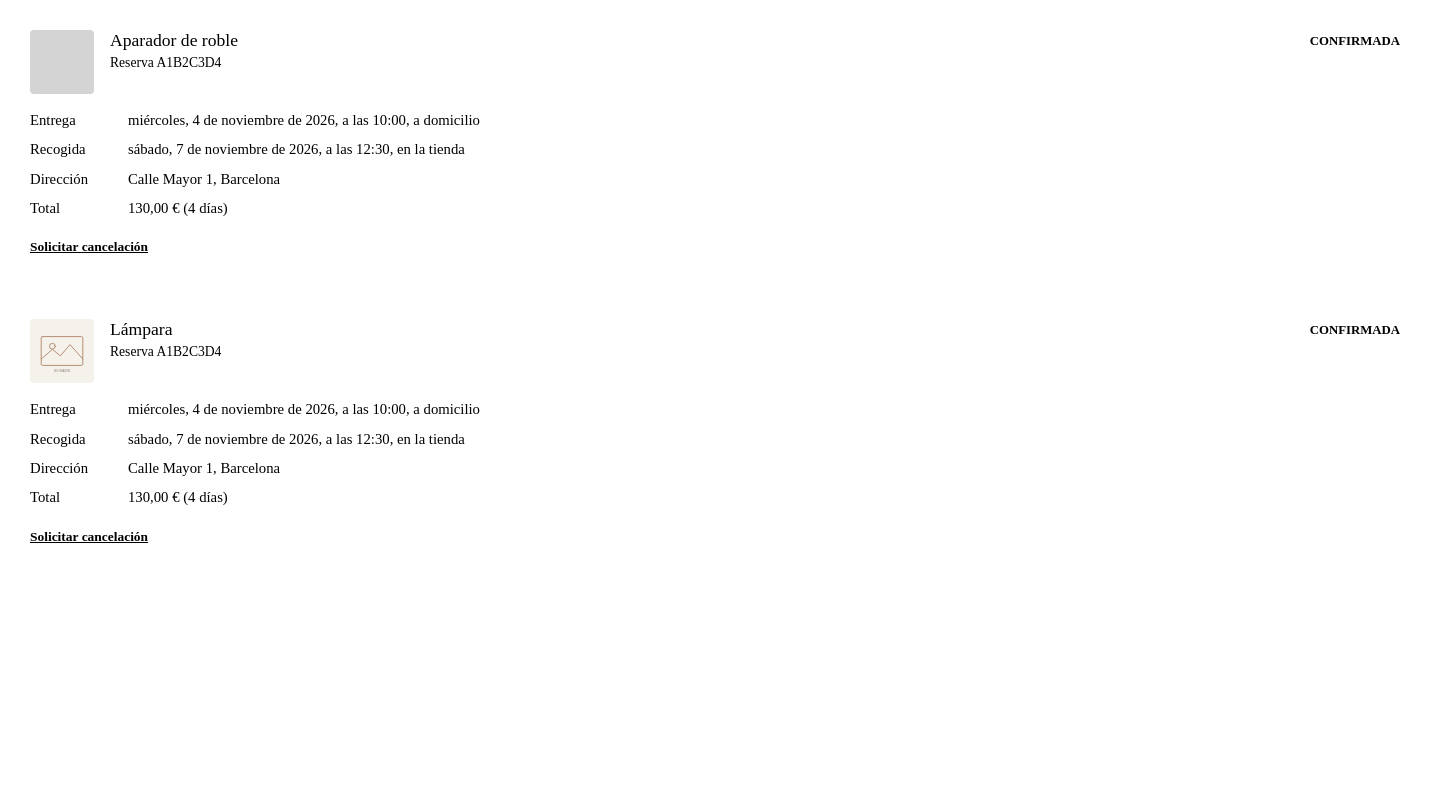
Test: MisReservas — solicitar la cancelación › pide un motivo opcional, lo envía y enseña la respuesta del servidor
Click the button "Solicitar cancelación" below "Aparador de roble". click: click(89, 247)
box: [30,239,148,255]
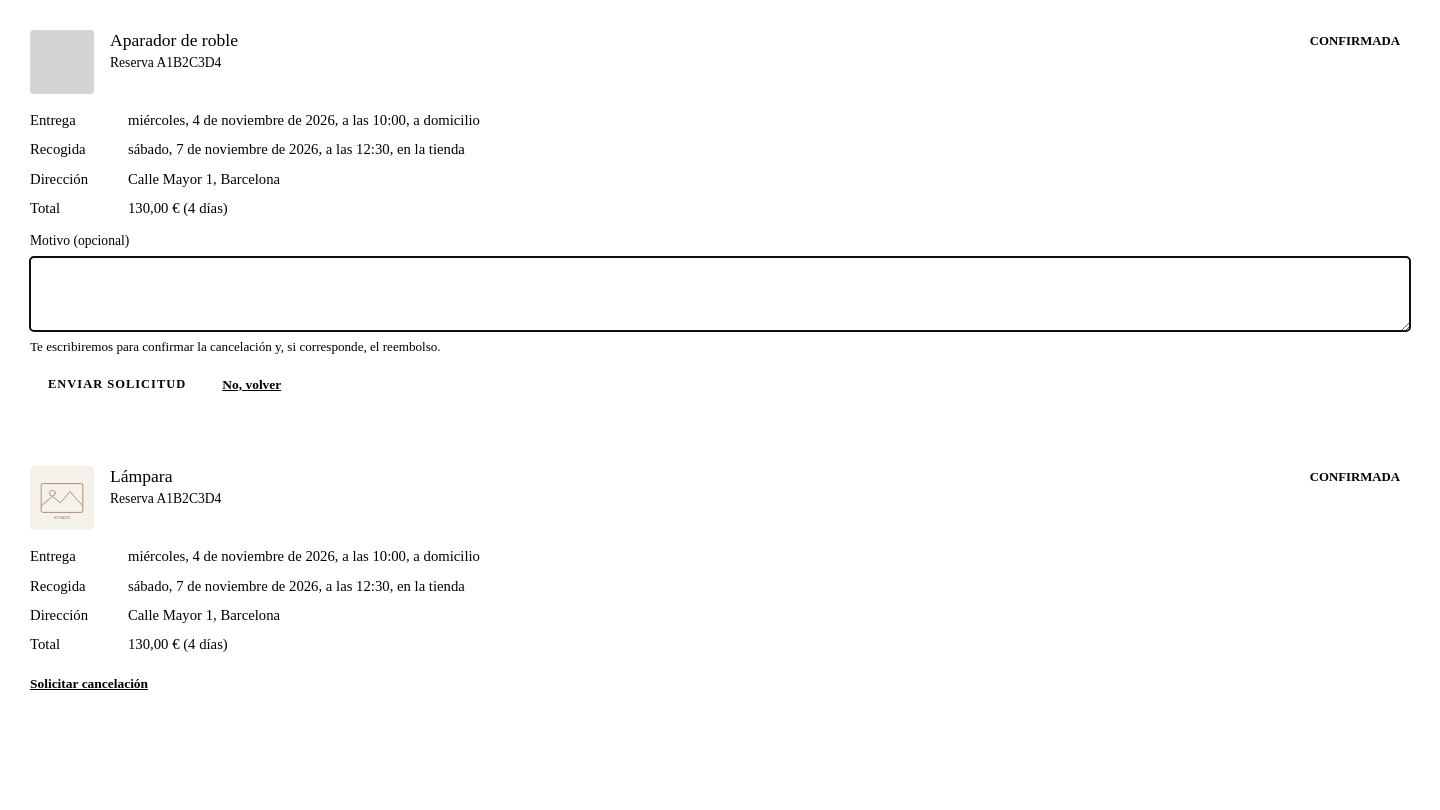
Type "  Cambio de fechas del rodaje  " into the text box labelled "Motivo (opcional)". click: (720, 294)
box: [30,257,1410,331]
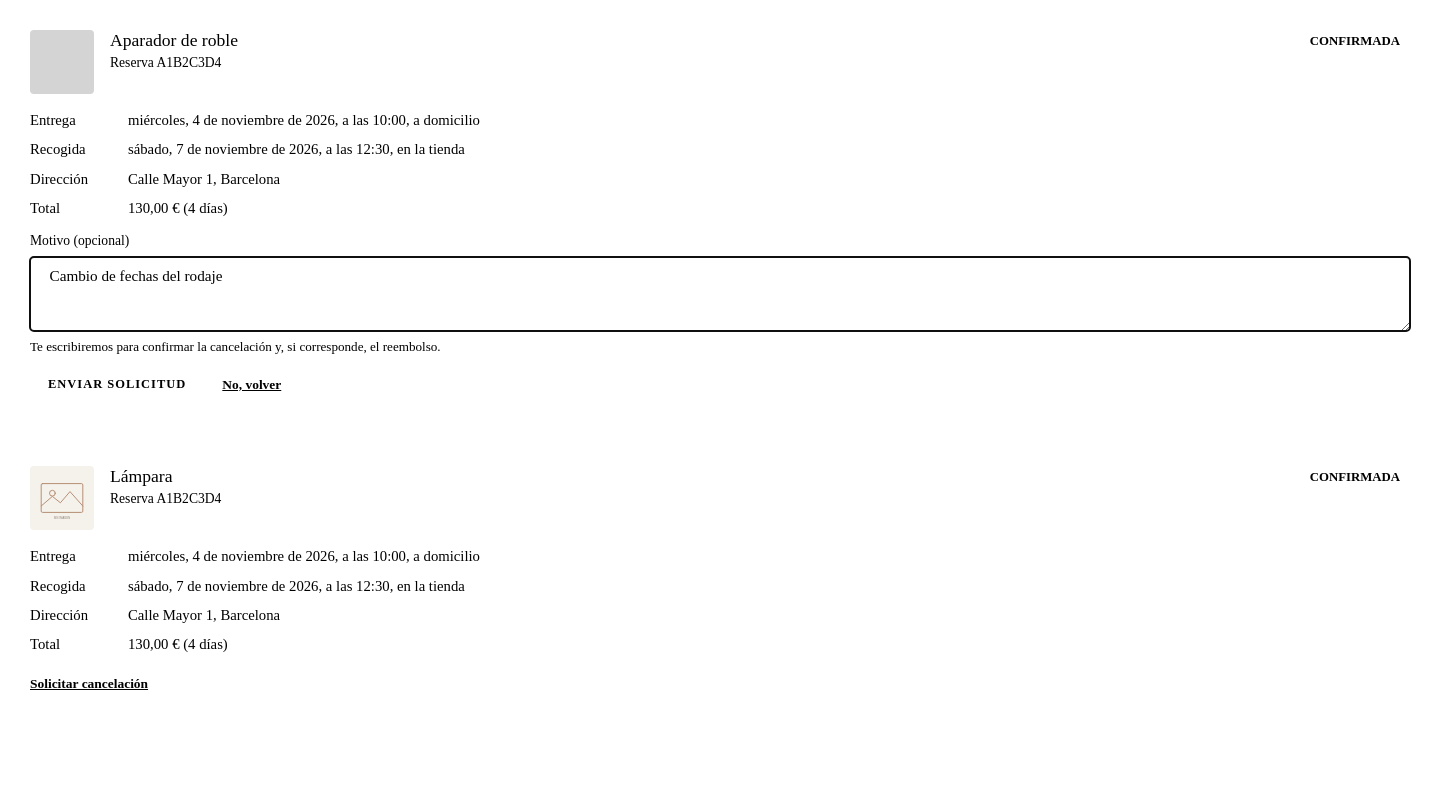
Click the button "Enviar solicitud". click: click(117, 385)
box: [30,367,204,402]
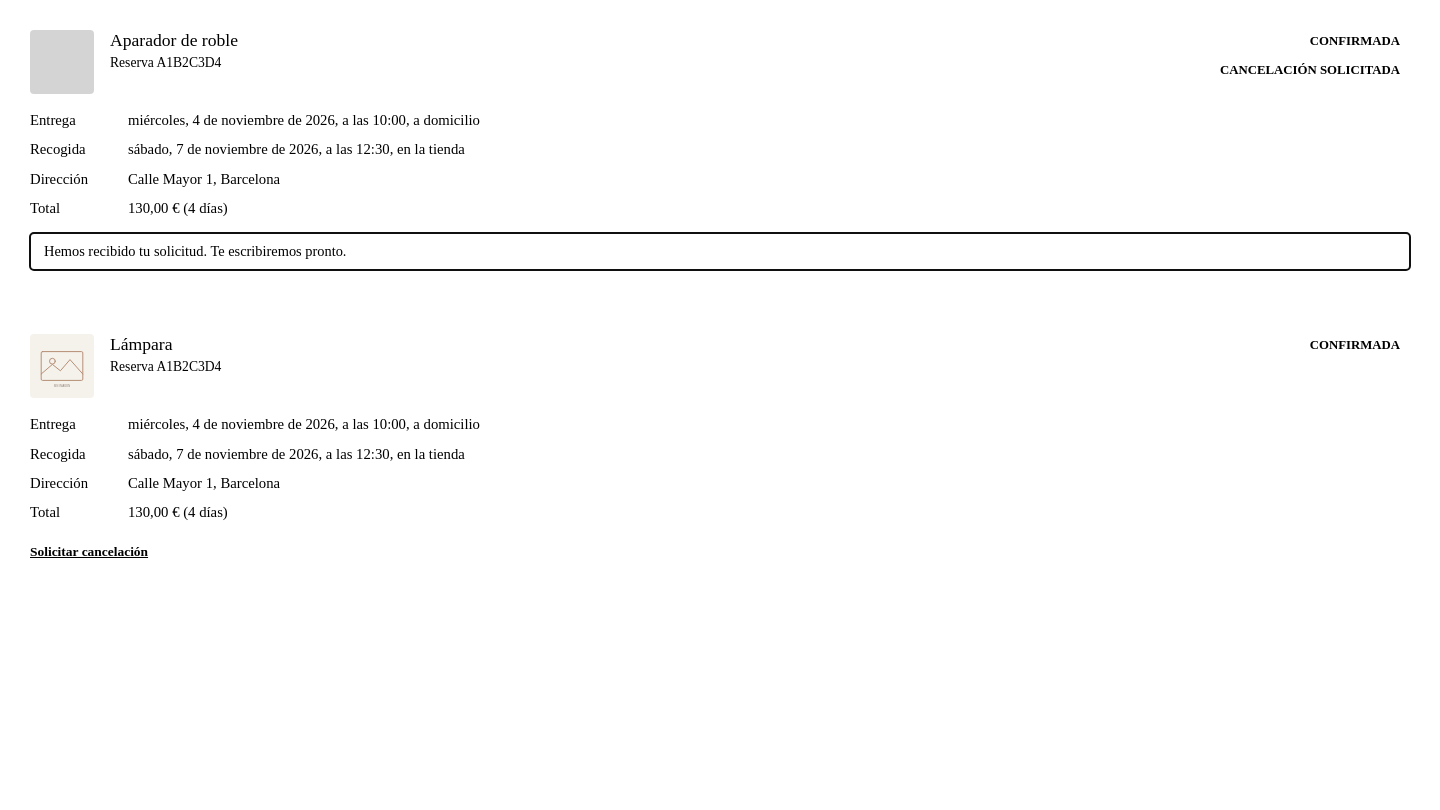
expect the message reads "Hemos recibido tu solicitud. Te escribiremos pronto.": met, box [44,243,346,259]
expect the text "Cancelación solicitada" is shown: met, box [1210,59,1410,82]
expect the label labelled "Motivo (opcional)" is gone: met
